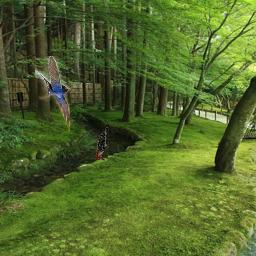Swallow: (36, 56, 71, 132)
Woodpecker: (97, 124, 110, 160)
